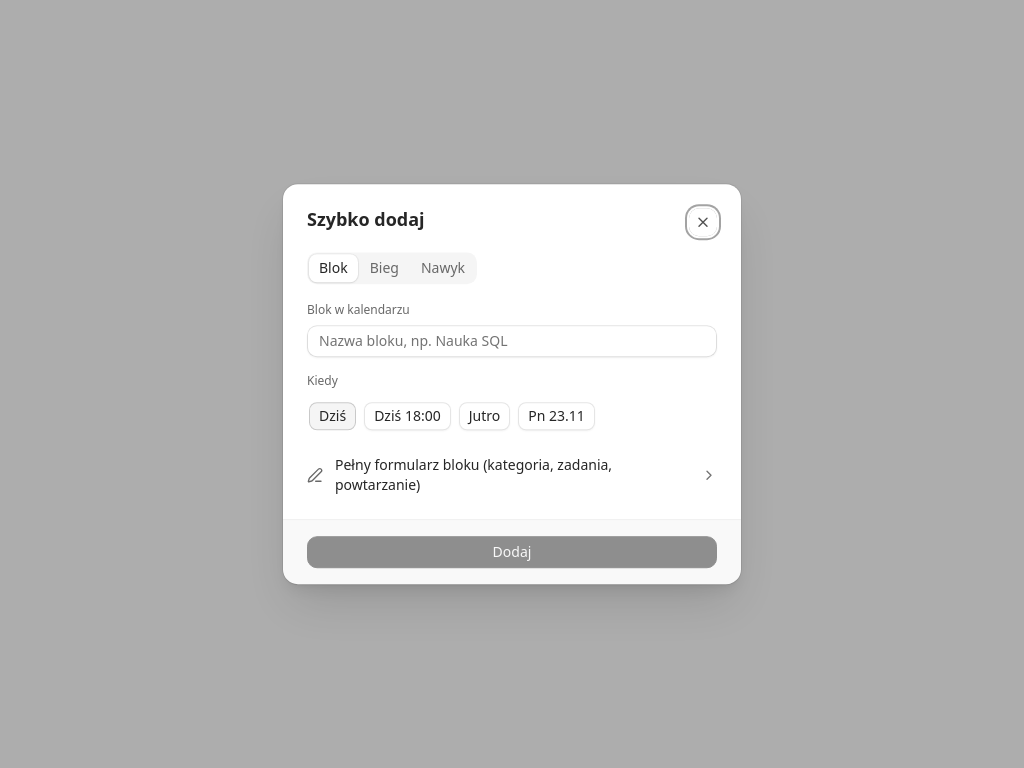
Test: MQuickAdd › segment zmienia etykietę, placeholder i chipy
Check: the dialog "Szybko dodaj" is shown, box x1=282 y1=183 x2=742 y2=585
Check: the radio button labelled "Blok" is checked, box x1=309 y1=254 x2=358 y2=282
Click the radio button labelled "Bieg": (384, 268) x1=360 y1=254 x2=409 y2=282
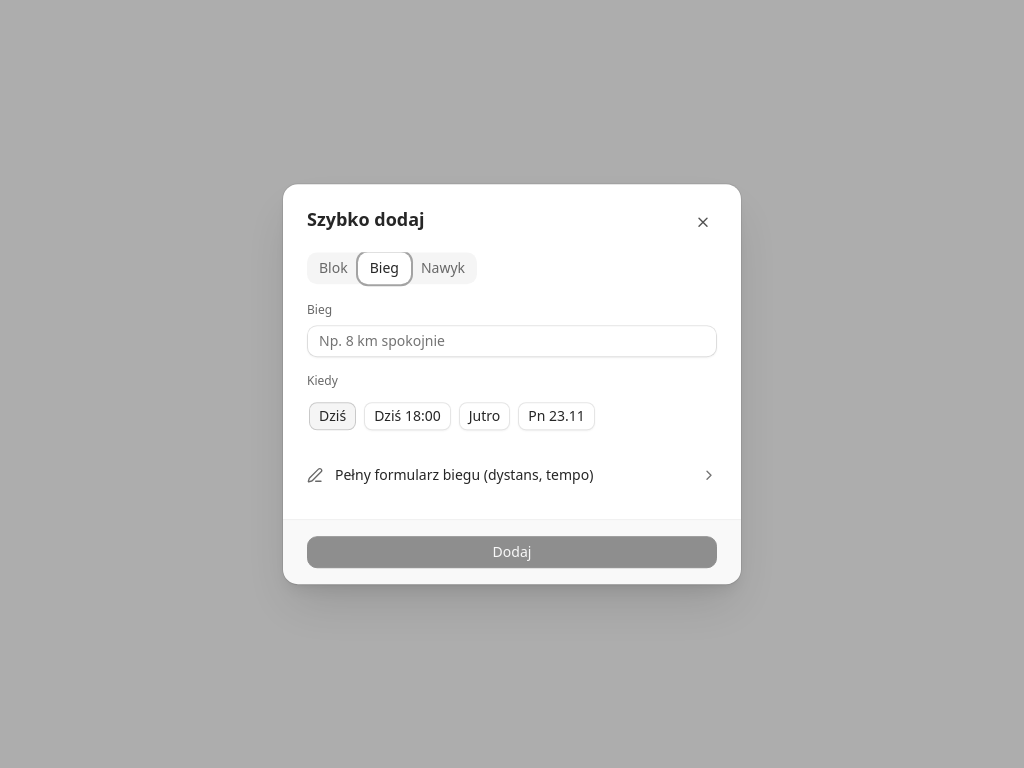
Check: the field labelled "Bieg" has attribute placeholder="Np. 8 km spokojnie", box x1=307 y1=325 x2=717 y2=357
Click the radio button labelled "Nawyk": (443, 268) x1=411 y1=254 x2=475 y2=282
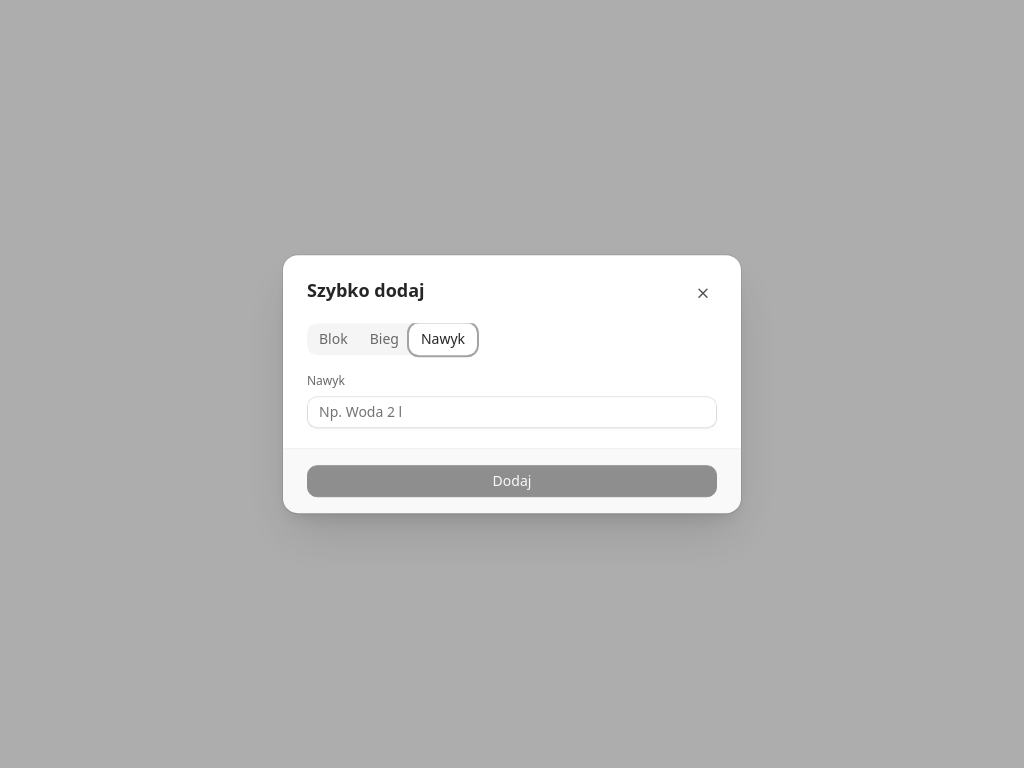
Check: the text "Kiedy" is gone
